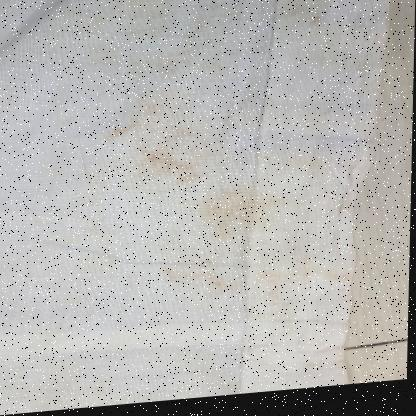spot: (103, 67, 227, 197), (123, 82, 200, 195), (178, 188, 266, 244), (131, 116, 189, 178), (155, 268, 232, 298), (142, 130, 167, 162), (207, 206, 244, 226), (312, 275, 348, 292), (290, 297, 294, 301)
